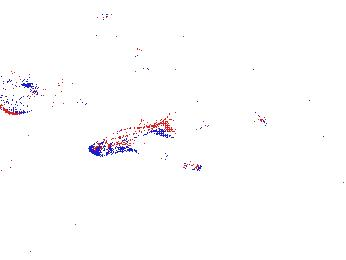X-ray fish: (16, 80, 87, 123)
red belly glassfish: (159, 146, 202, 174), (236, 103, 273, 128)
redtail glassfish: (88, 112, 181, 155), (1, 67, 61, 101), (130, 42, 159, 76), (194, 108, 211, 140)
